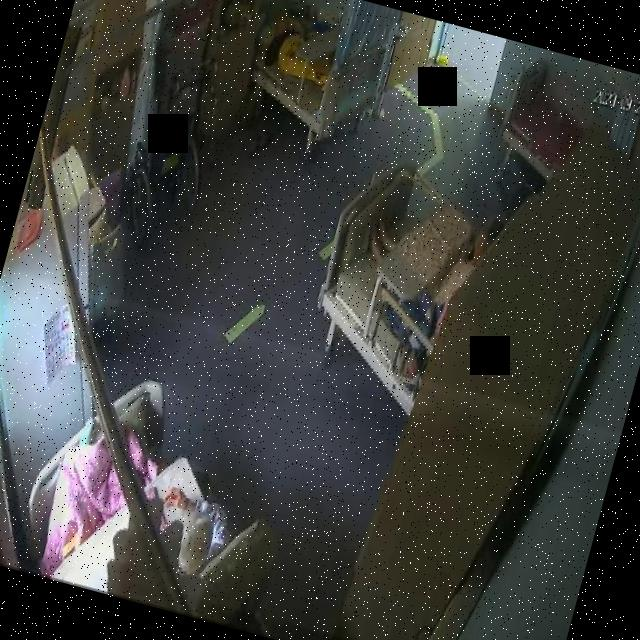bed: (9, 354, 301, 630), (300, 153, 498, 411), (240, 0, 396, 144), (490, 52, 599, 186)
